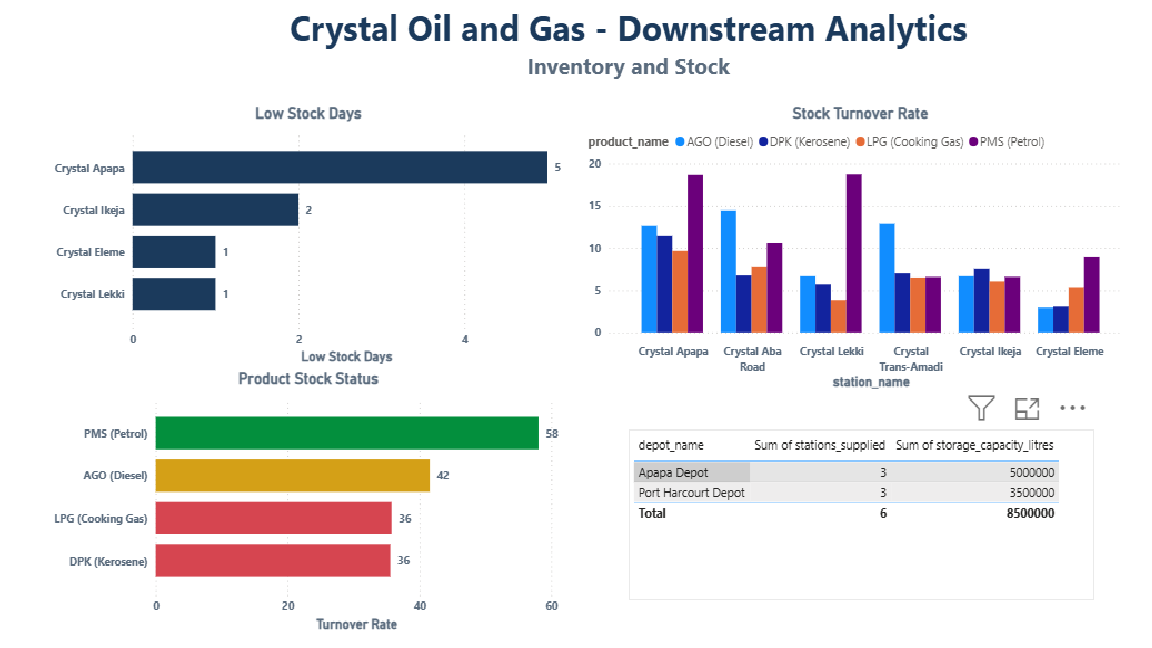

Layout of this report page (visuals, bound fields, positions):
{"tool":"powerbi","page":{"name":"Inventory and Stock","canvas":[1280,720],"ordinal":2},"visuals":[{"type":"clusteredBarChart","title":"Low Stock Days","fields":{"Category":["vw_station_stockouts.station_name"],"Y":["Sum(vw_station_stockouts.low_stock_days)"]},"box":[41.1,164.4,582.7,276.4],"z":0},{"type":"clusteredColumnChart","title":"Stock Turnover Rate","fields":{"Category":["vw_stock_turnover.station_name"],"Y":["Sum(vw_stock_turnover.turnover_rate)"],"Series":["vw_stock_turnover.product_name"]},"box":[640.6,164.4,620.1,302.6],"z":1000},{"type":"clusteredBarChart","title":"Product Stock Status","fields":{"Category":["vw_product_stock_status.product_name"],"Y":["Sum(vw_product_stock_status.turnover_rate)"]},"box":[41.1,440.8,582.7,278.3],"z":2000},{"type":"tableEx","fields":{"Values":["vw_depot_station_load.depot_name","Sum(vw_depot_station_load.stations_supplied)","Sum(vw_depot_station_load.storage_capacity_litres)"]},"box":[691.1,504.3,521.1,177.4],"z":3000},{"type":"textbox","box":[263.3,54.2,855.4,110.2],"z":4000}]}

Visuals, with their boxes in screenshot pixels (x1, y1, x2, y2), scaled from the page's 1280x720 canvas onto the 1152x648 screenshot:
"Low Stock Days" clusteredBarChart: [37, 148, 561, 397]
"Stock Turnover Rate" clusteredColumnChart: [577, 148, 1135, 420]
"Product Stock Status" clusteredBarChart: [37, 397, 561, 647]
tableEx - vw_depot_station_load.depot_name x Sum(vw_depot_station_load.stations_supplied): [622, 454, 1091, 614]
textbox: [237, 49, 1007, 148]
